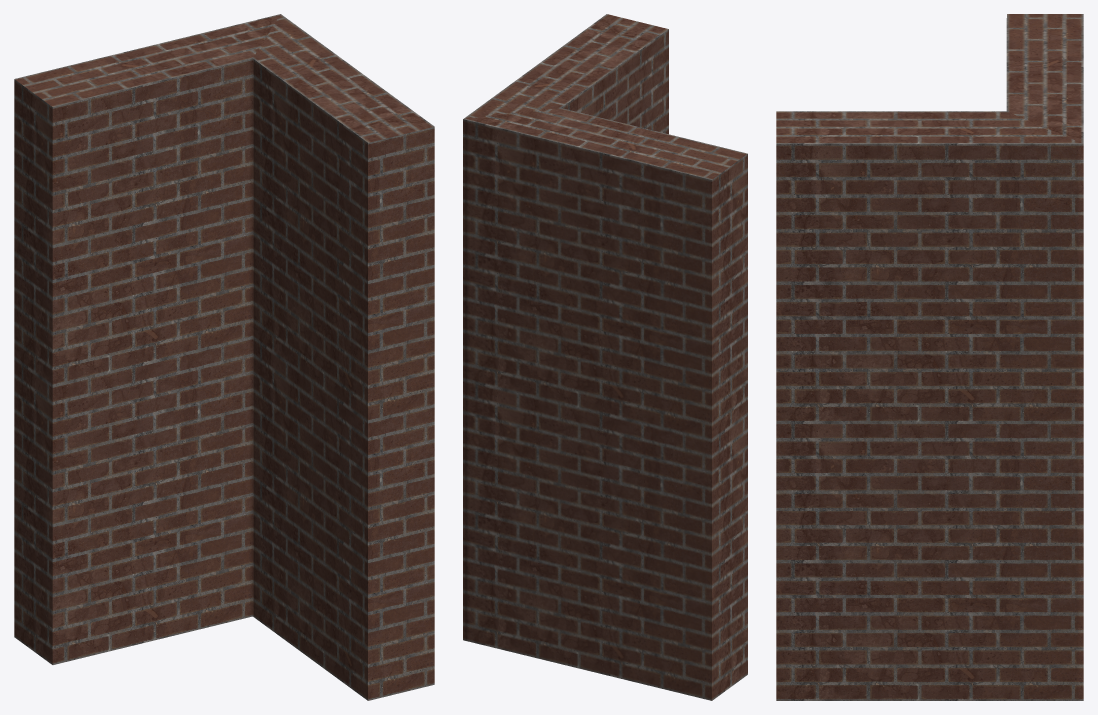
File: SM_BrickWallCorner4m.FBX
3 views of the same model, side by side, from view 1: azimuth 30°, elevation 25°; view 2: azimuth 150°, elevation 25°; view 3: azimuth 270°, elevation 25° (orthographic). The views are drawn at different scales.
Parts seen in each view (by area): view 1: SM_BrickWallCorner4m; view 2: SM_BrickWallCorner4m; view 3: SM_BrickWallCorner4m.
Part boxes in pixels (x1,y1,x2,y2): SM_BrickWallCorner4m: (14,14,434,700); SM_BrickWallCorner4m: (463,14,747,700); SM_BrickWallCorner4m: (776,14,1083,700).
Bounding box in the file's own units: 200 × 200 × 400.
